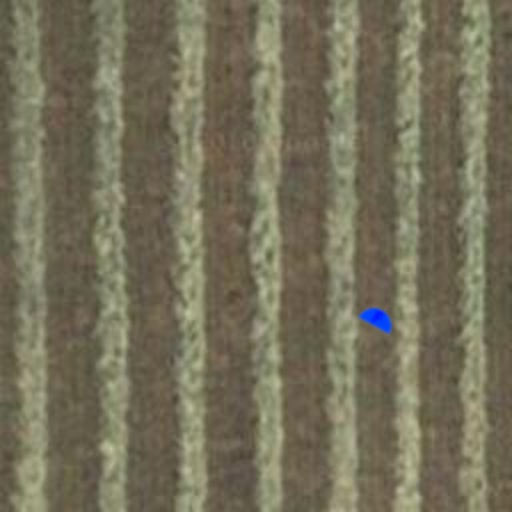semicircle: (354, 294, 402, 342)
